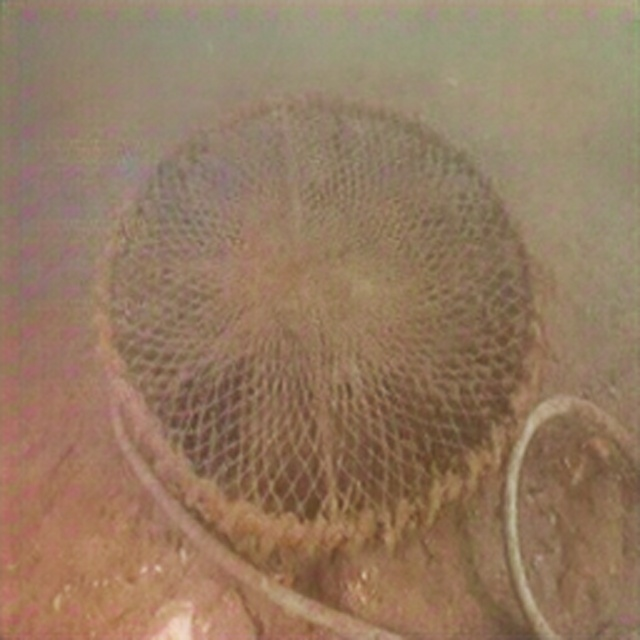mine: (93, 91, 542, 552)
